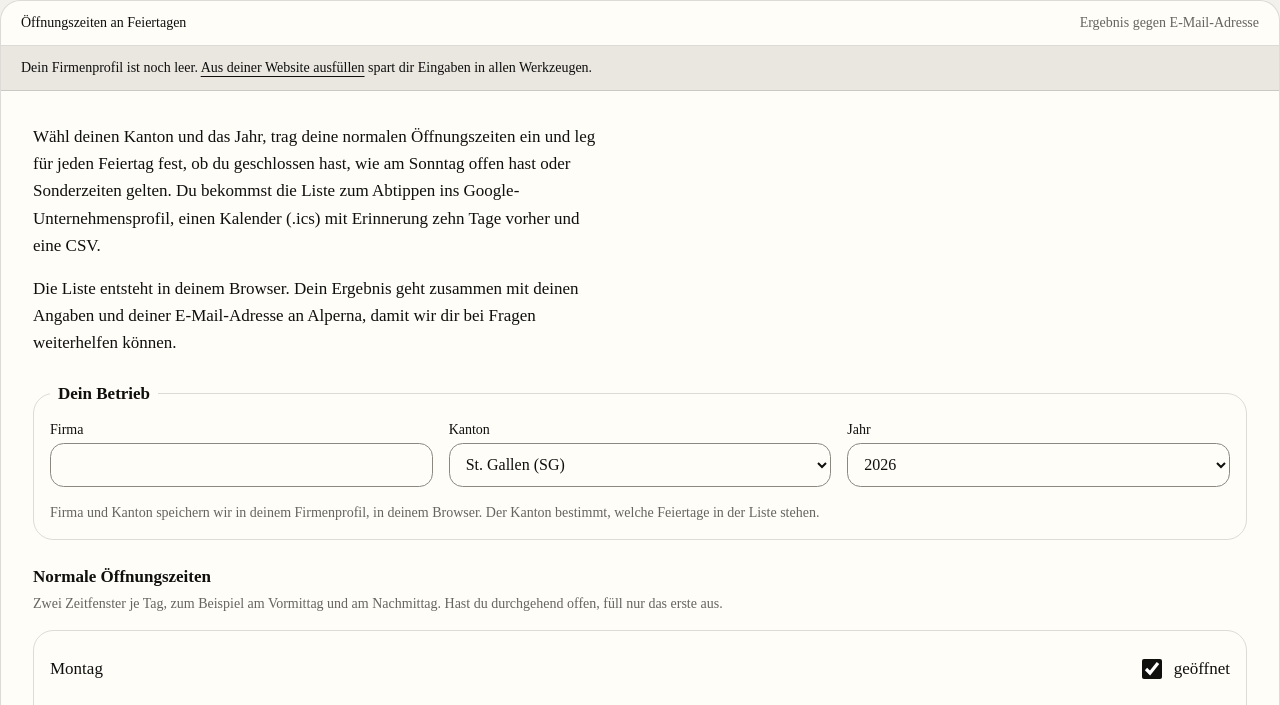
Feiertagsplaner: Formular › weist im Formular darauf hin, dass ein Feiertag auf einen Sonntag fällt, und wechselt mit dem Jahr die Daten
Select "2027" in the dropdown labelled "Jahr" at (1039, 465), box [847,443,1230,487]
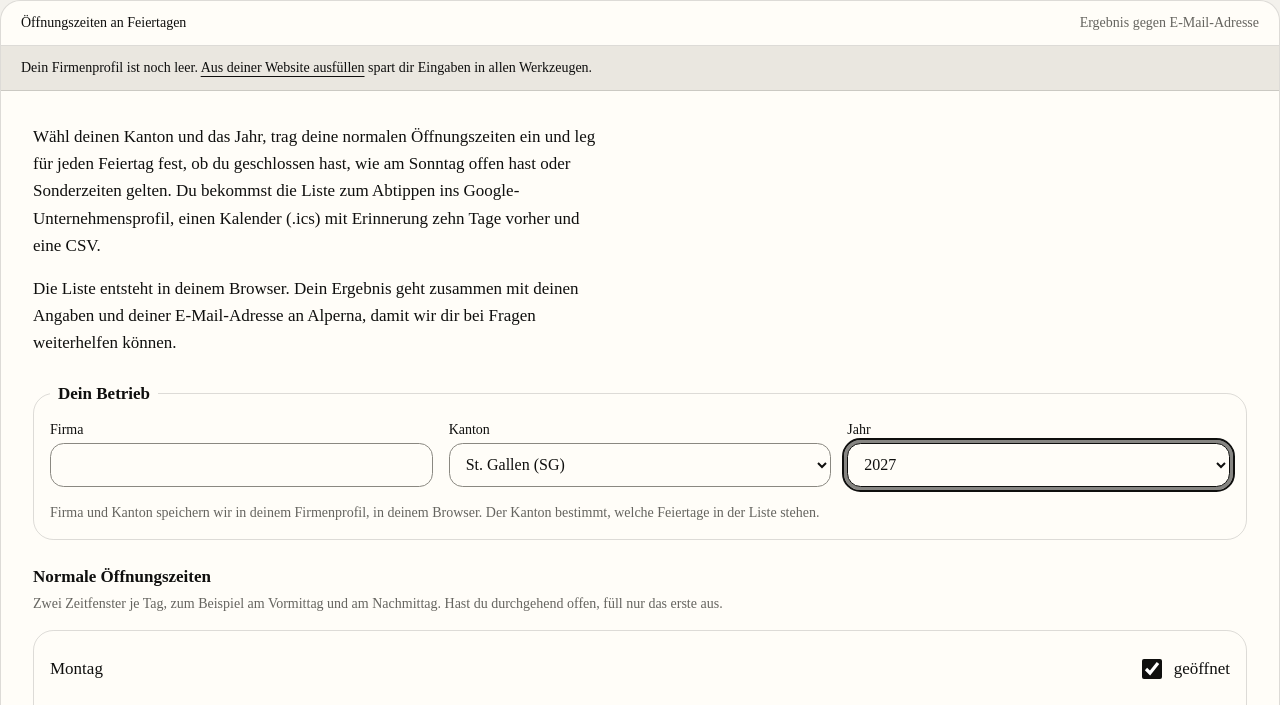
Select "2026" in the dropdown labelled "Jahr" at (1039, 465), box [847,443,1230,487]
(page scrolled)
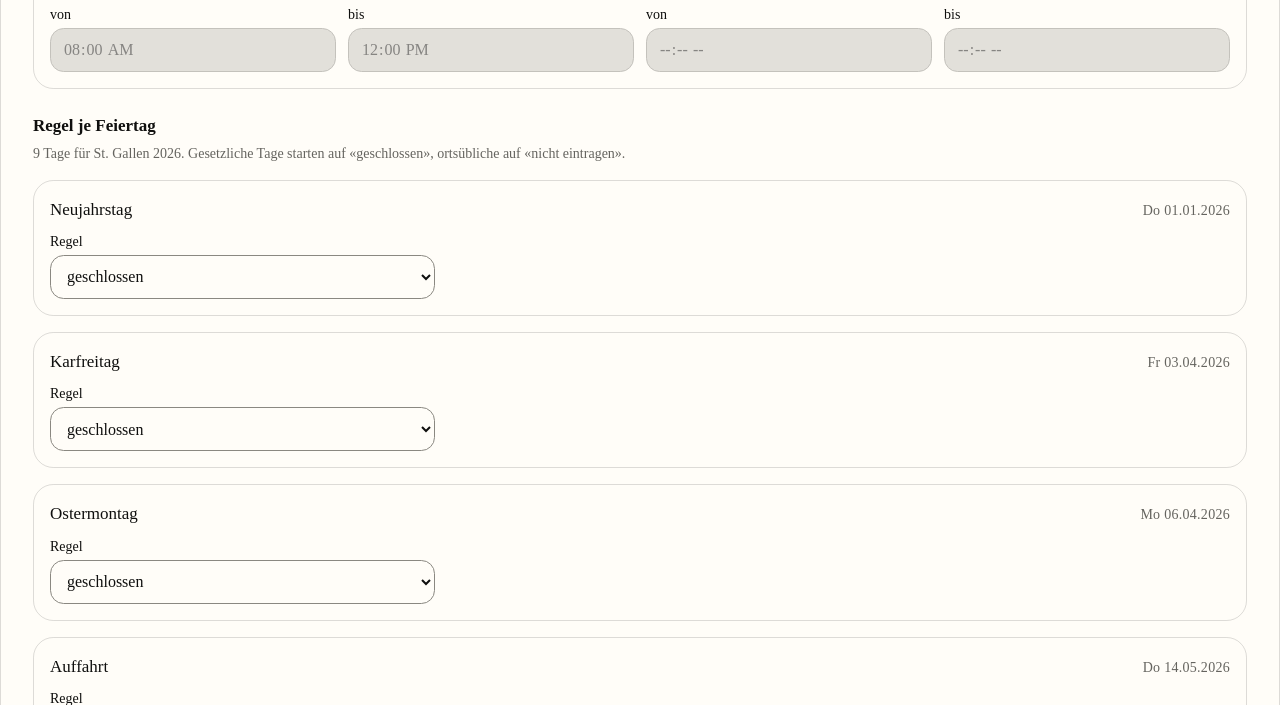
Now the list item with test id "feiertag-karfreitag" shows "Fr 03.04.2026", box [33,332,1247,468]
